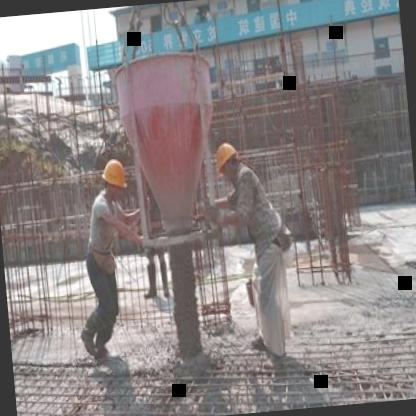helmet: (212, 136, 244, 184), (99, 152, 130, 200)
